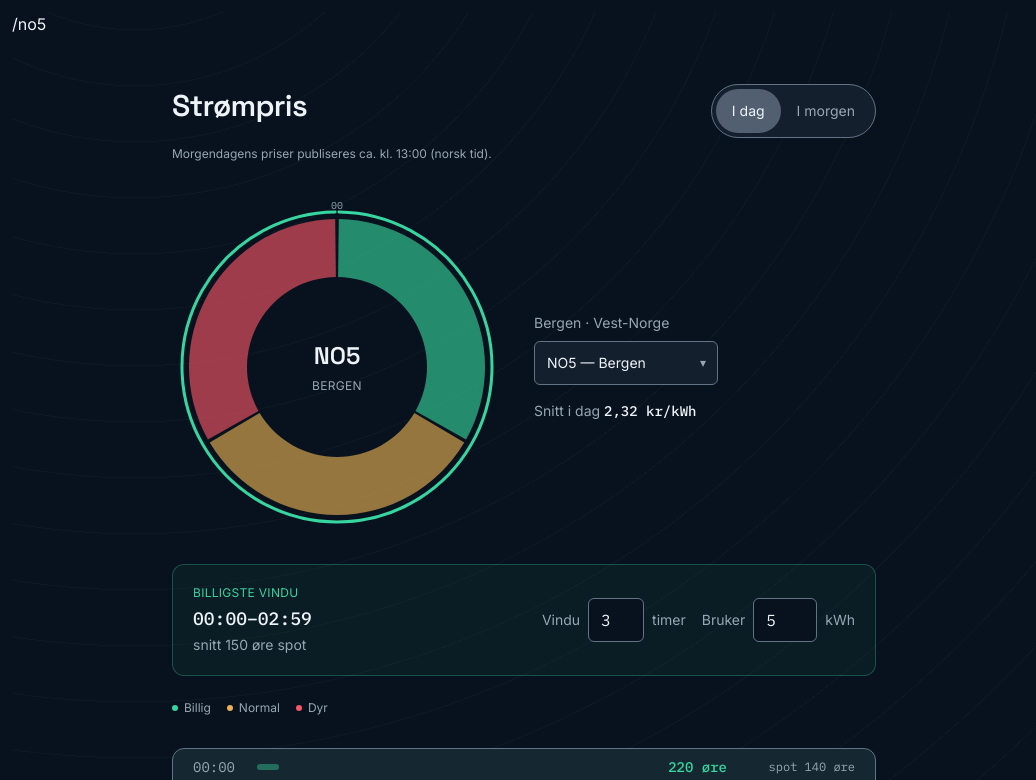
Scenario: App › clamps the Window input to at least 1 hour instead of letting it go blank
Expected: the text "spot 140 øre" is shown, [769,759,855,774]
Clear the number field labelled "Vindu timer" at point(616, 620), box [588,598,644,642]
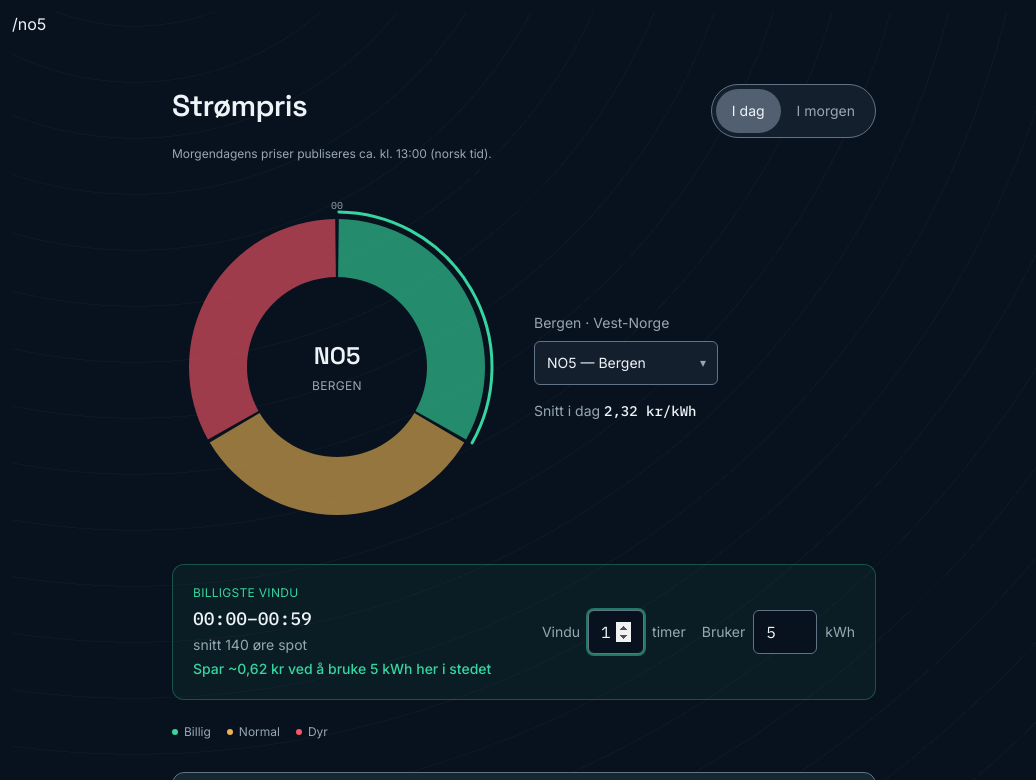
Expected: the heading "Billigste vindu" is shown, [193,585,298,600]
Expected: the number field labelled "Vindu timer" holds "1", [588,610,644,654]
